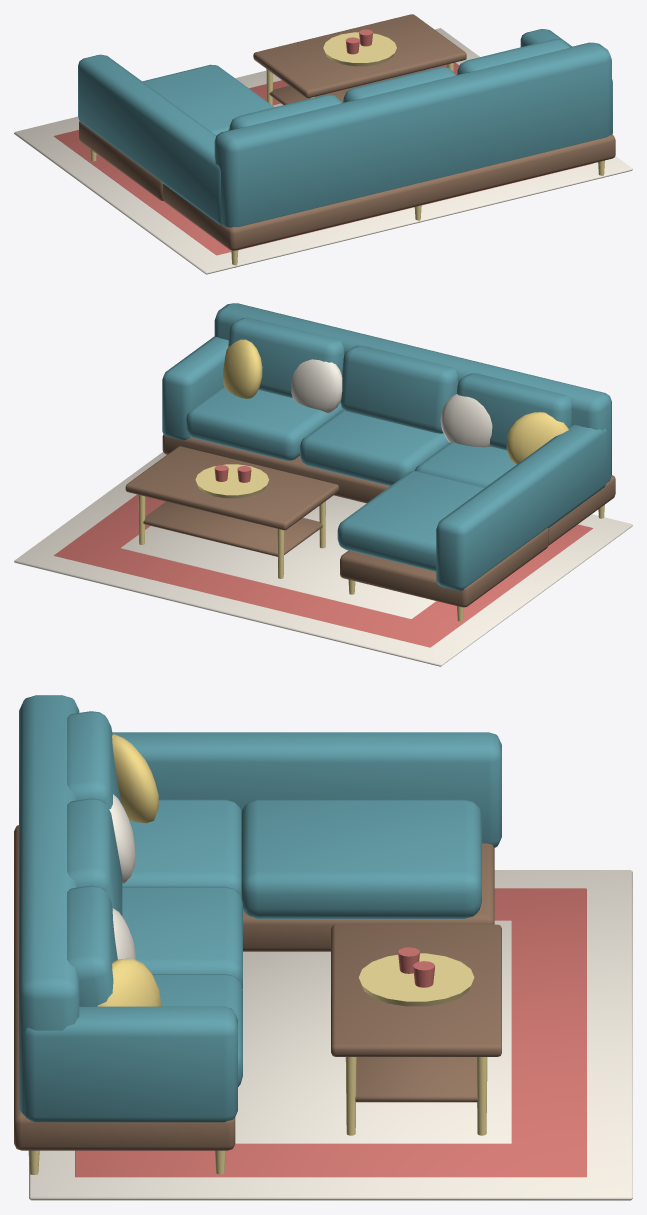
Rendered from OW_HomeLuxurySofaSet.fbx.
3 views of the same model, one above another, from view 1: azimuth 30°, elevation 25°; view 2: azimuth 150°, elevation 25°; view 3: azimuth 270°, elevation 25° (orthographic). The views are drawn at different scales.
Parts seen in each view (by area): view 1: OW_HomeLuxurySofaSet; view 2: OW_HomeLuxurySofaSet; view 3: OW_HomeLuxurySofaSet.
Part boxes in pixels (<box>): OW_HomeLuxurySofaSet: <box>14,14,632,274</box>; OW_HomeLuxurySofaSet: <box>14,303,632,666</box>; OW_HomeLuxurySofaSet: <box>14,695,632,1200</box>.
Bounding box in the file's own units: 3.08 × 0.8934 × 2.46.
